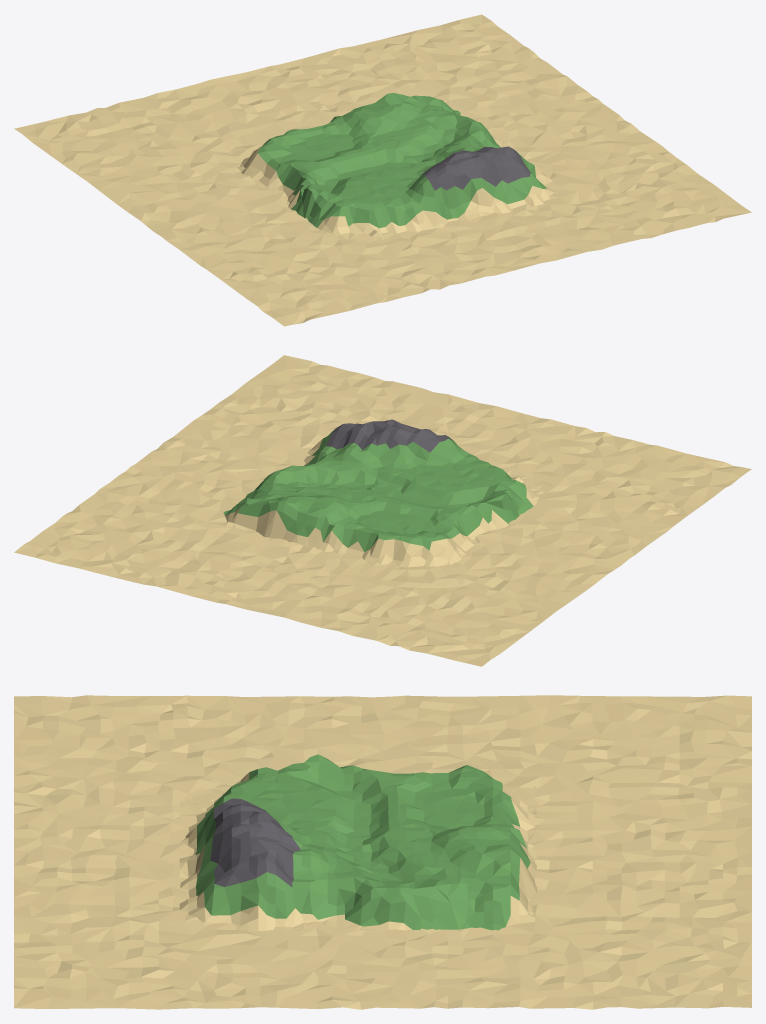
Rendered from BasicTerrain.fbx.
The picture shows the model from 3 angles, top to bottom: view 1: azimuth 30°, elevation 25°; view 2: azimuth 150°, elevation 25°; view 3: azimuth 270°, elevation 25°; orthographic projection. The views are drawn at different scales.
Visible parts, largest first — view 1: Plane.001, Plane; view 2: Plane.001, Plane; view 3: Plane.001, Plane.
Part boxes in pixels (<box>): Plane.001: <box>14,14,751,326</box>; Plane: <box>226,93,557,251</box>; Plane.001: <box>14,355,751,666</box>; Plane: <box>222,419,565,575</box>; Plane.001: <box>14,695,751,1009</box>; Plane: <box>179,754,537,930</box>.
Size of the model in its own units: 3300 by 315 by 3300.
